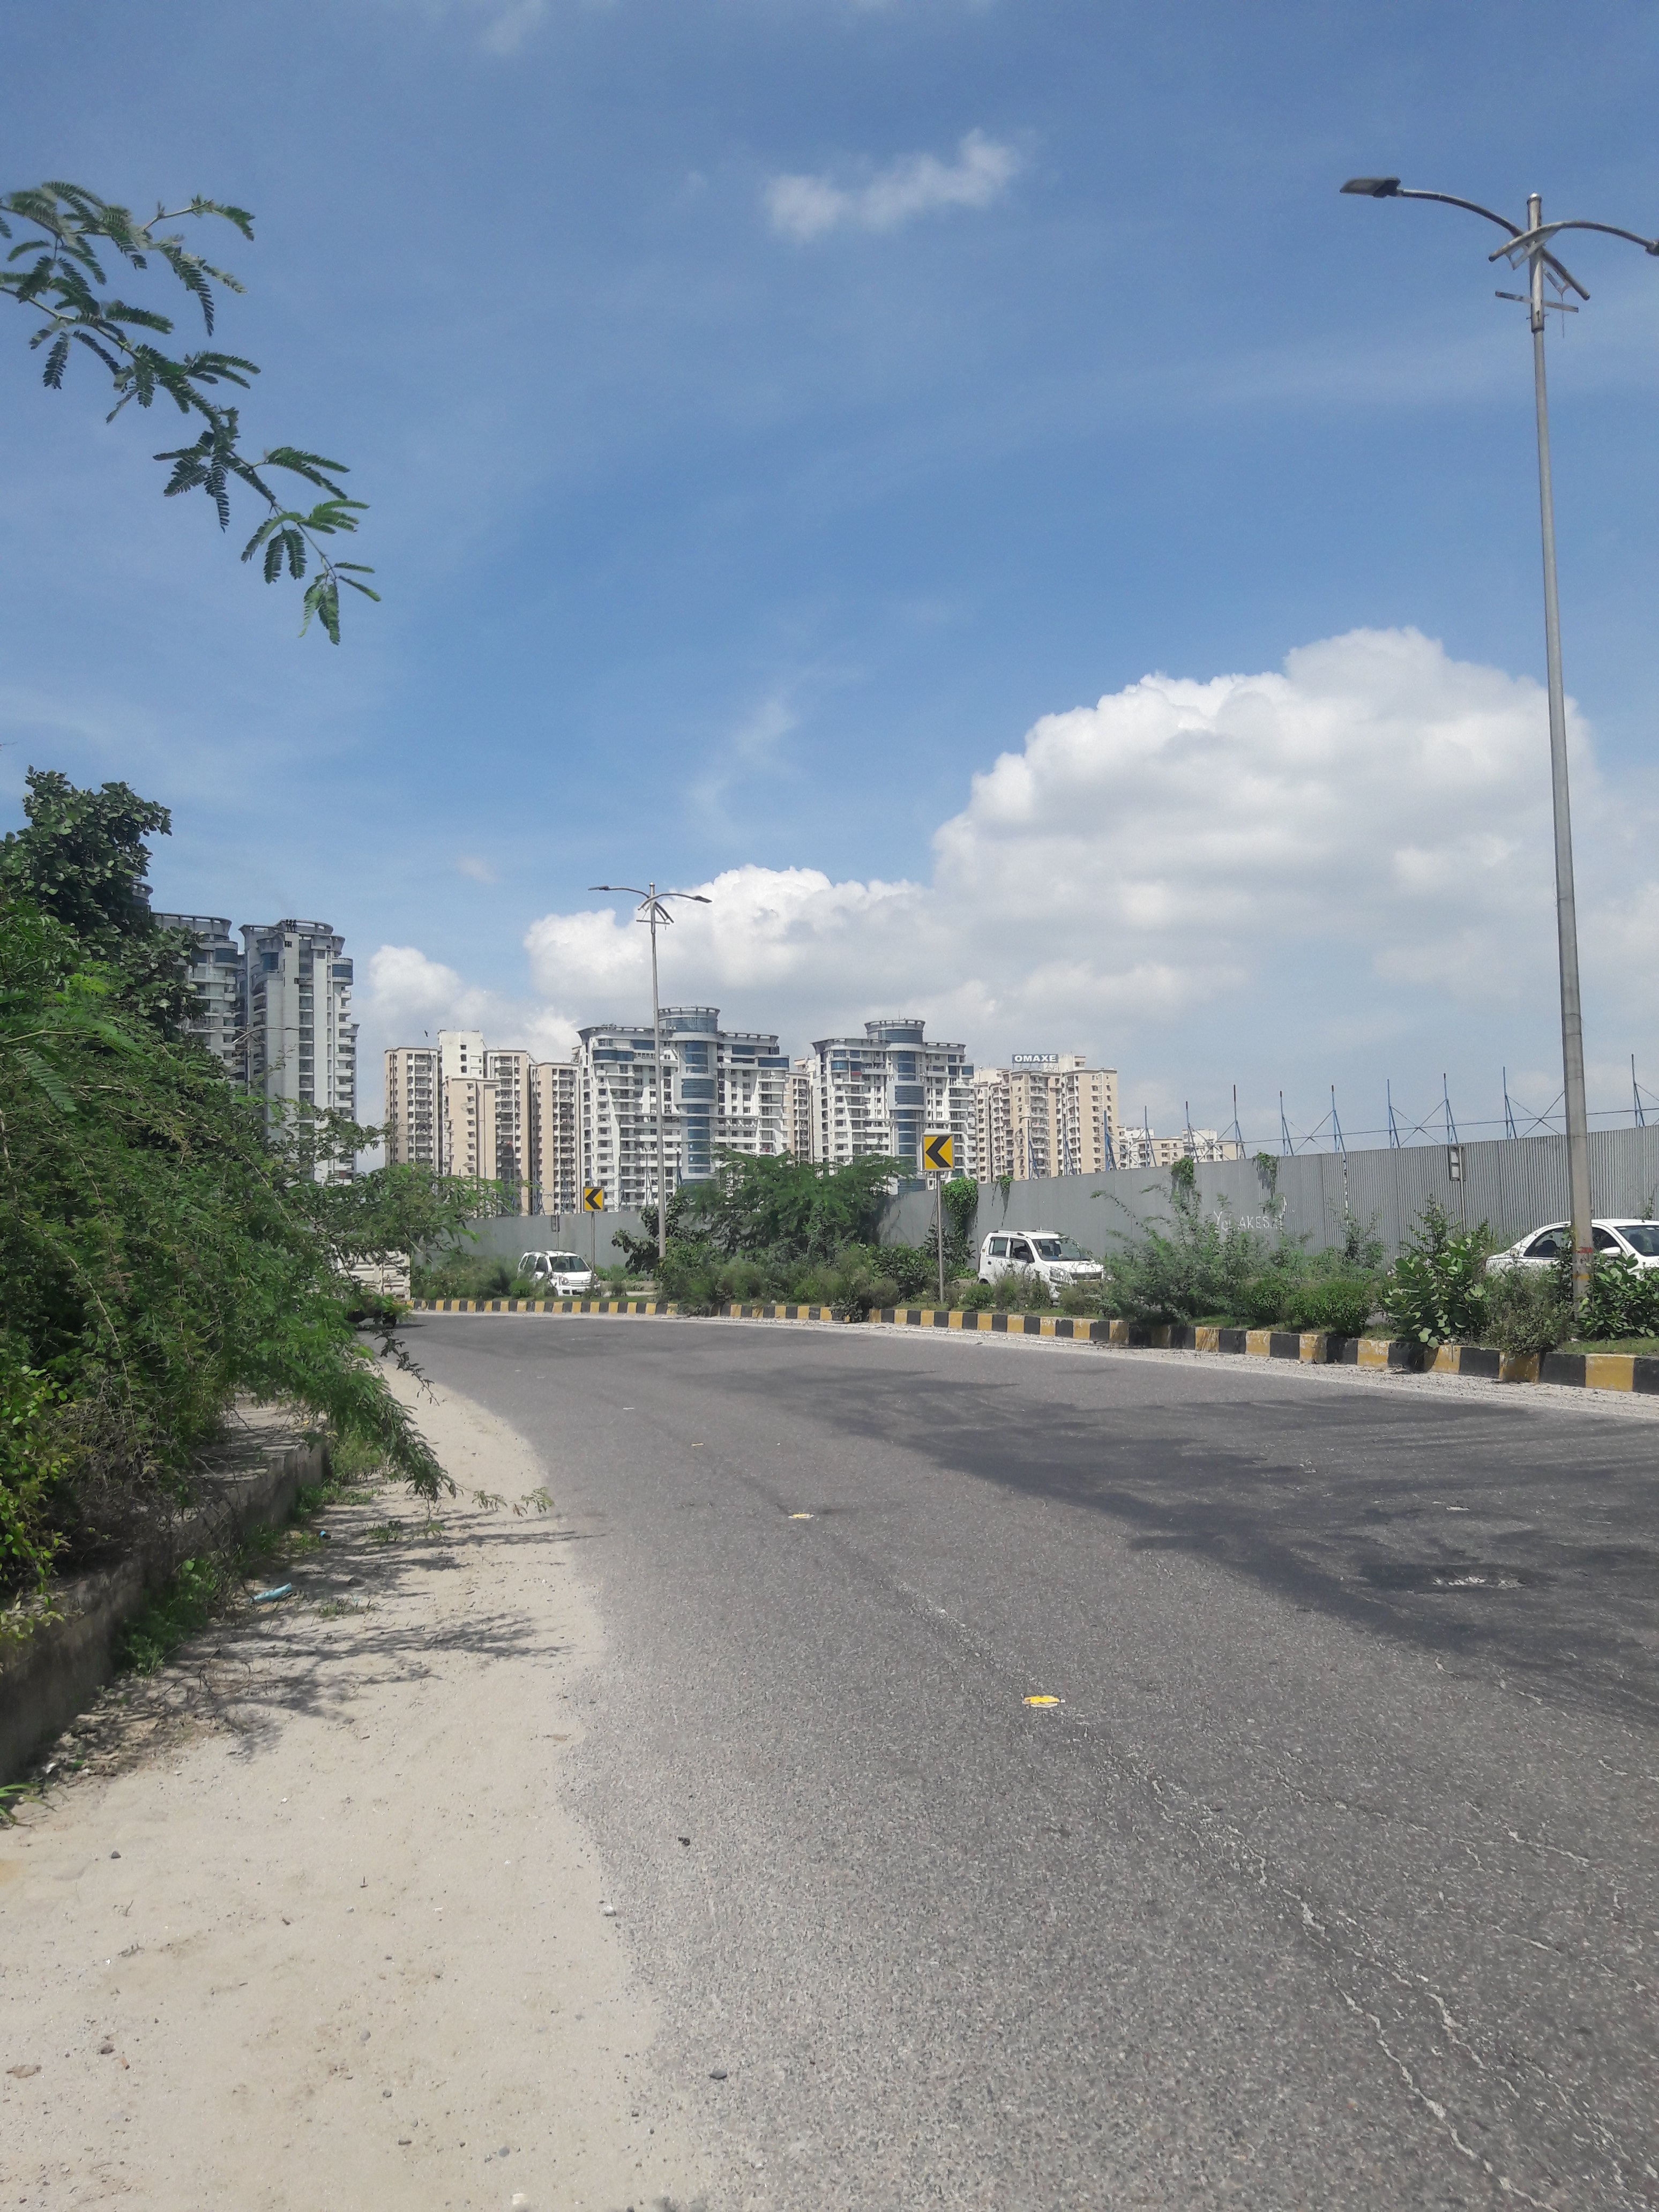traffic_sign: (920, 1132, 953, 1172), (582, 1186, 605, 1211)
